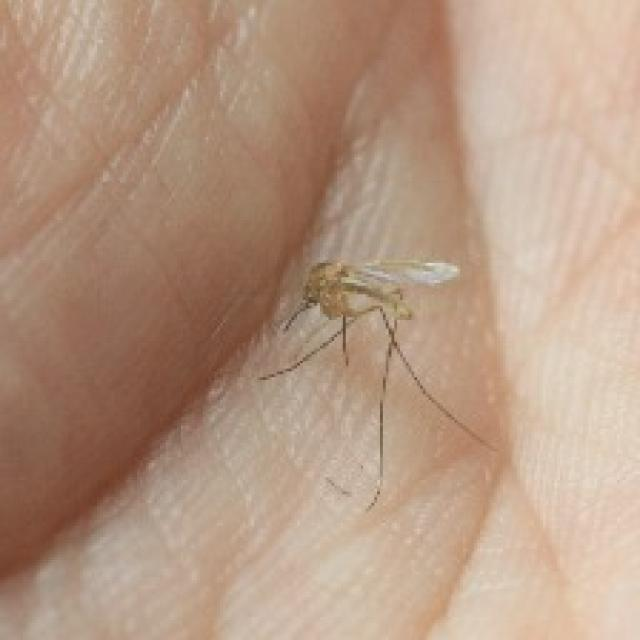culex: (254, 254, 497, 512)
